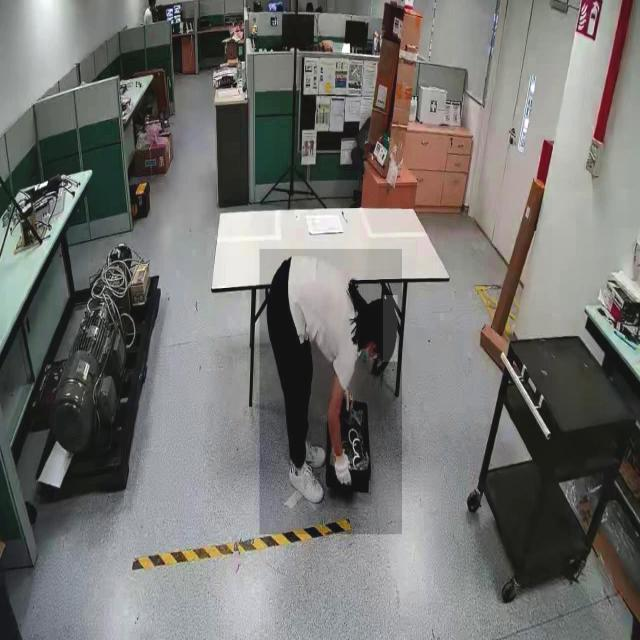hand_glove: (331, 444, 355, 489)
head_nohelmet: (382, 295, 398, 363)
person: (259, 249, 402, 535)
shoes: (286, 455, 324, 508), (296, 439, 327, 468)
